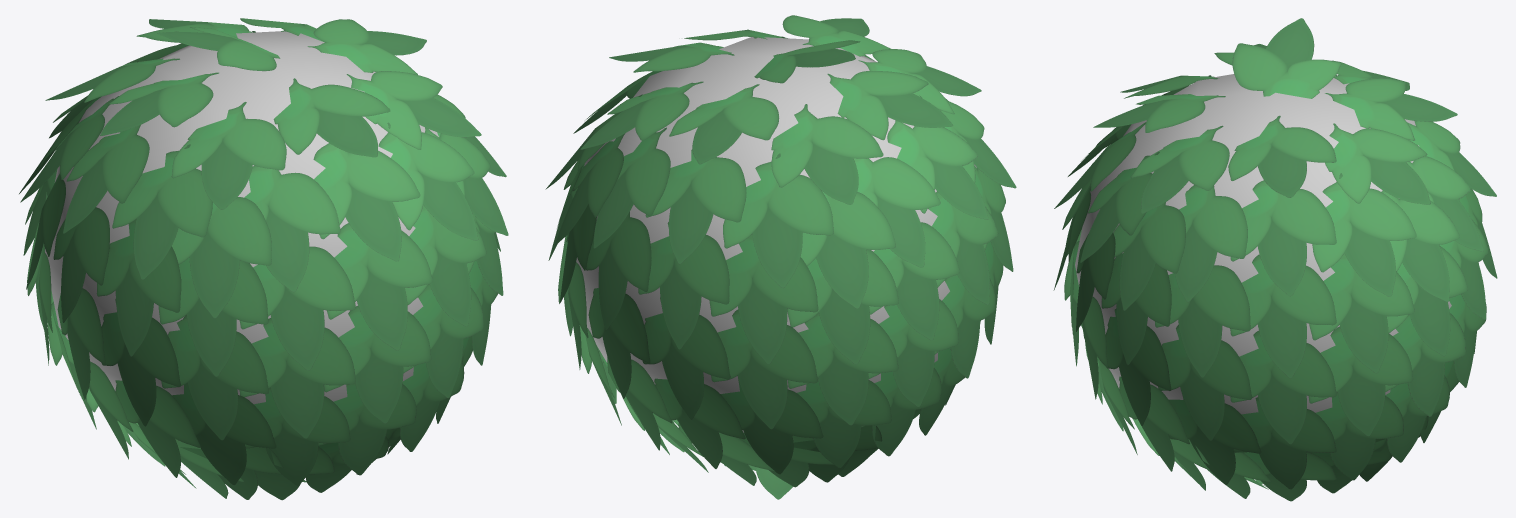
The model's file is BushSphere3.fbx.
3 views of the same model, side by side, from view 1: azimuth 30°, elevation 25°; view 2: azimuth 150°, elevation 25°; view 3: azimuth 270°, elevation 25° (orthographic). The views are drawn at different scales.
Visible parts, largest first — view 1: Cube.038, Cube.038|Leaf.002|Dupli|42, Cube.038|Leaf.002|Dupli|14, Cube.038|Leaf.002|Dupli|43, Cube.038|Leaf.002|Dupli|97, Cube.038|Leaf.002|Dupli|1, Cube.038|Leaf.002|Dupli|76, Cube.038|Leaf.002|Dupli|79, Cube.038|Leaf.002|Dupli|96, Cube.038|Leaf.002|Dupli|78, Cube.038|Leaf.002|Dupli|41, Cube.038|Leaf.002|Dupli|12 (+36 smaller); view 2: Cube.038, Cube.038|Leaf.002|Dupli|23, Cube.038|Leaf.002|Dupli|91, Cube.038|Leaf.002|Dupli|55, Cube.038|Leaf.002|Dupli|24, Cube.038|Leaf.002|Dupli|3, Cube.038|Leaf.002|Dupli|58, Cube.038|Leaf.002|Dupli|54, Cube.038|Leaf.002|Dupli|18, Cube.038|Leaf.002|Dupli|94, Cube.038|Leaf.002|Dupli|16, Cube.038|Leaf.002|Dupli|15 (+36 smaller); view 3: Cube.038, Cube.038|Leaf.002|Dupli|32, Cube.038|Leaf.002|Dupli|33, Cube.038|Leaf.002|Dupli|67, Cube.038|Leaf.002|Dupli|89, Cube.038|Leaf.002|Dupli|64, Cube.038|Leaf.002|Dupli|93, Cube.038|Leaf.002|Dupli|70, Cube.038|Leaf.002|Dupli|66, Cube.038|Leaf.002|Dupli|34, Cube.038|Leaf.002|Dupli|63, Cube.038|Leaf.002|Dupli|92 (+35 smaller).
Part boxes in pixels (box(x1,y1,x2,y2)): Cube.038: box(45, 31, 438, 404); Cube.038|Leaf.002|Dupli|42: box(313, 143, 420, 261); Cube.038|Leaf.002|Dupli|14: box(112, 144, 212, 279); Cube.038|Leaf.002|Dupli|43: box(244, 165, 340, 292); Cube.038|Leaf.002|Dupli|97: box(171, 102, 286, 209); Cube.038|Leaf.002|Dupli|1: box(171, 197, 271, 318); Cube.038|Leaf.002|Dupli|76: box(326, 223, 432, 350); Cube.038|Leaf.002|Dupli|79: box(239, 246, 355, 370); Cube.038|Leaf.002|Dupli|96: box(273, 78, 390, 157); Cube.038|Leaf.002|Dupli|78: box(239, 318, 355, 438); Cube.038|Leaf.002|Dupli|41: box(378, 122, 478, 240); Cube.038|Leaf.002|Dupli|12: box(161, 315, 268, 440); Cube.038: box(576, 37, 976, 432); Cube.038|Leaf.002|Dupli|23: box(723, 153, 833, 287); Cube.038|Leaf.002|Dupli|91: box(771, 104, 883, 204); Cube.038|Leaf.002|Dupli|55: box(709, 234, 818, 364); Cube.038|Leaf.002|Dupli|24: box(645, 149, 746, 264); Cube.038|Leaf.002|Dupli|3: box(800, 191, 895, 308); Cube.038|Leaf.002|Dupli|58: box(638, 222, 729, 349); Cube.038|Leaf.002|Dupli|54: box(711, 309, 817, 429); Cube.038|Leaf.002|Dupli|18: box(787, 313, 898, 425); Cube.038|Leaf.002|Dupli|94: box(827, 71, 952, 140); Cube.038|Leaf.002|Dupli|16: box(853, 157, 940, 267); Cube.038|Leaf.002|Dupli|15: box(887, 120, 988, 219); Cube.038: box(1075, 74, 1451, 414); Cube.038|Leaf.002|Dupli|32: box(1312, 173, 1416, 296); Cube.038|Leaf.002|Dupli|33: box(1230, 180, 1336, 296); Cube.038|Leaf.002|Dupli|67: box(1230, 254, 1336, 378); Cube.038|Leaf.002|Dupli|89: box(1325, 123, 1430, 204); Cube.038|Leaf.002|Dupli|64: box(1309, 253, 1414, 373); Cube.038|Leaf.002|Dupli|93: box(1232, 18, 1341, 98); Cube.038|Leaf.002|Dupli|70: box(1155, 265, 1250, 377); Cube.038|Leaf.002|Dupli|66: box(1230, 330, 1336, 444); Cube.038|Leaf.002|Dupli|34: box(1175, 185, 1247, 301); Cube.038|Leaf.002|Dupli|63: box(1308, 326, 1412, 436); Cube.038|Leaf.002|Dupli|92: box(1228, 115, 1336, 197).
Bounding box in the file's own units: 144 × 150 × 144.
